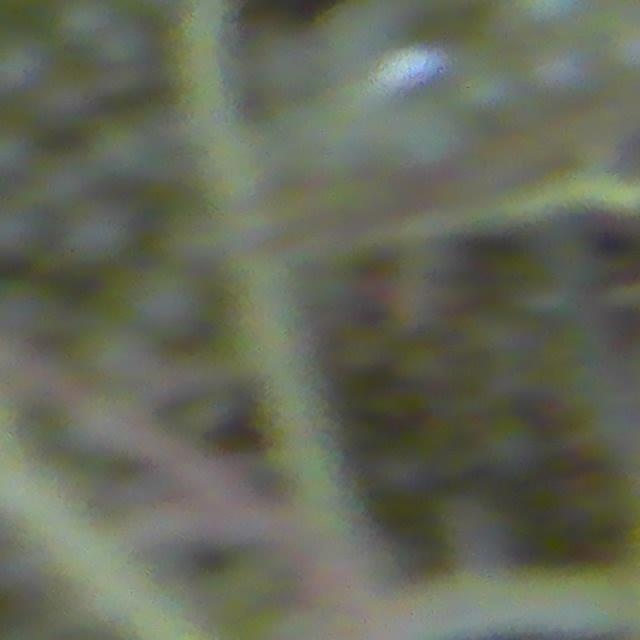SeaGrape: (526, 36, 598, 107), (62, 197, 134, 267), (0, 26, 50, 98)
